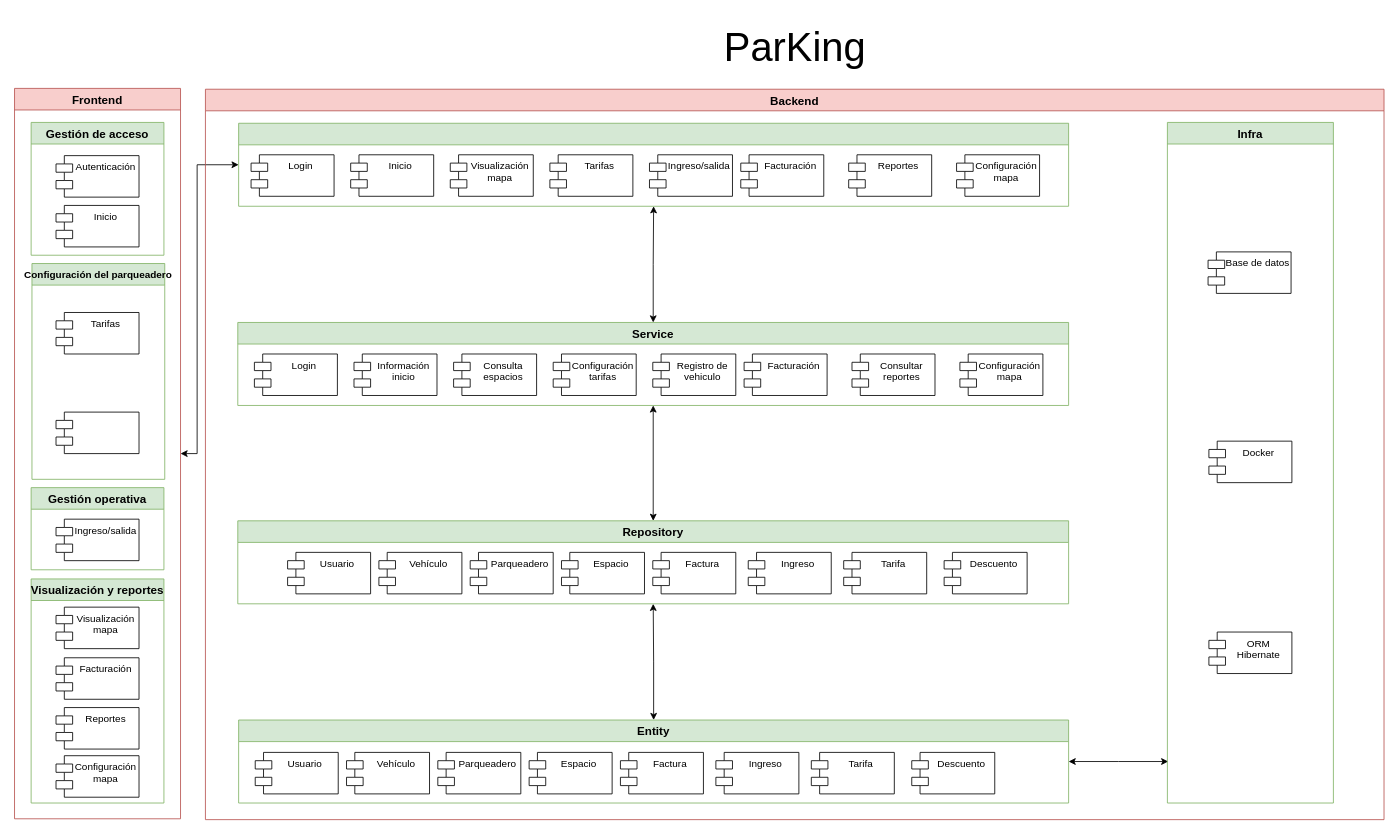
The diagram is 1399 pixels wide and 834 high, and some of its shapes have lost their labels. The shapes that lost their labels are listed below. From the top down, each one's centre as x and y in pixels, then its label:
point 653,164: Controllers
point 97,432: Clasificar espacios
